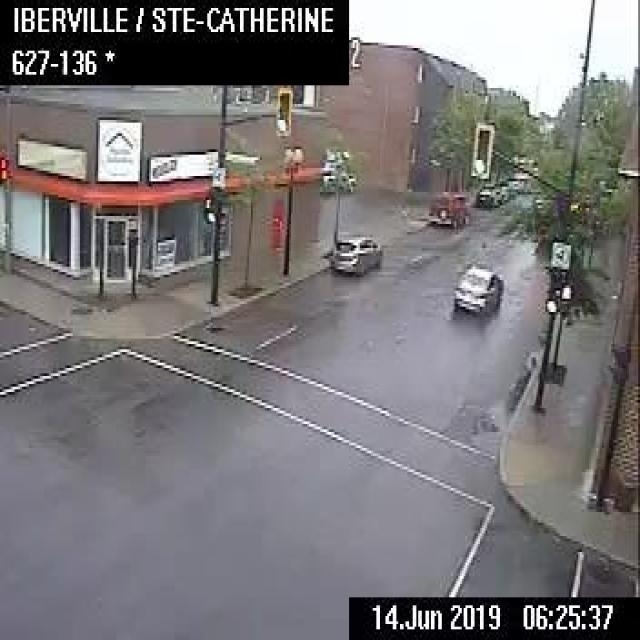vehicle: (453, 263, 501, 313), (327, 233, 380, 273), (433, 186, 469, 226), (474, 184, 501, 206), (492, 177, 514, 198), (504, 176, 522, 191)
